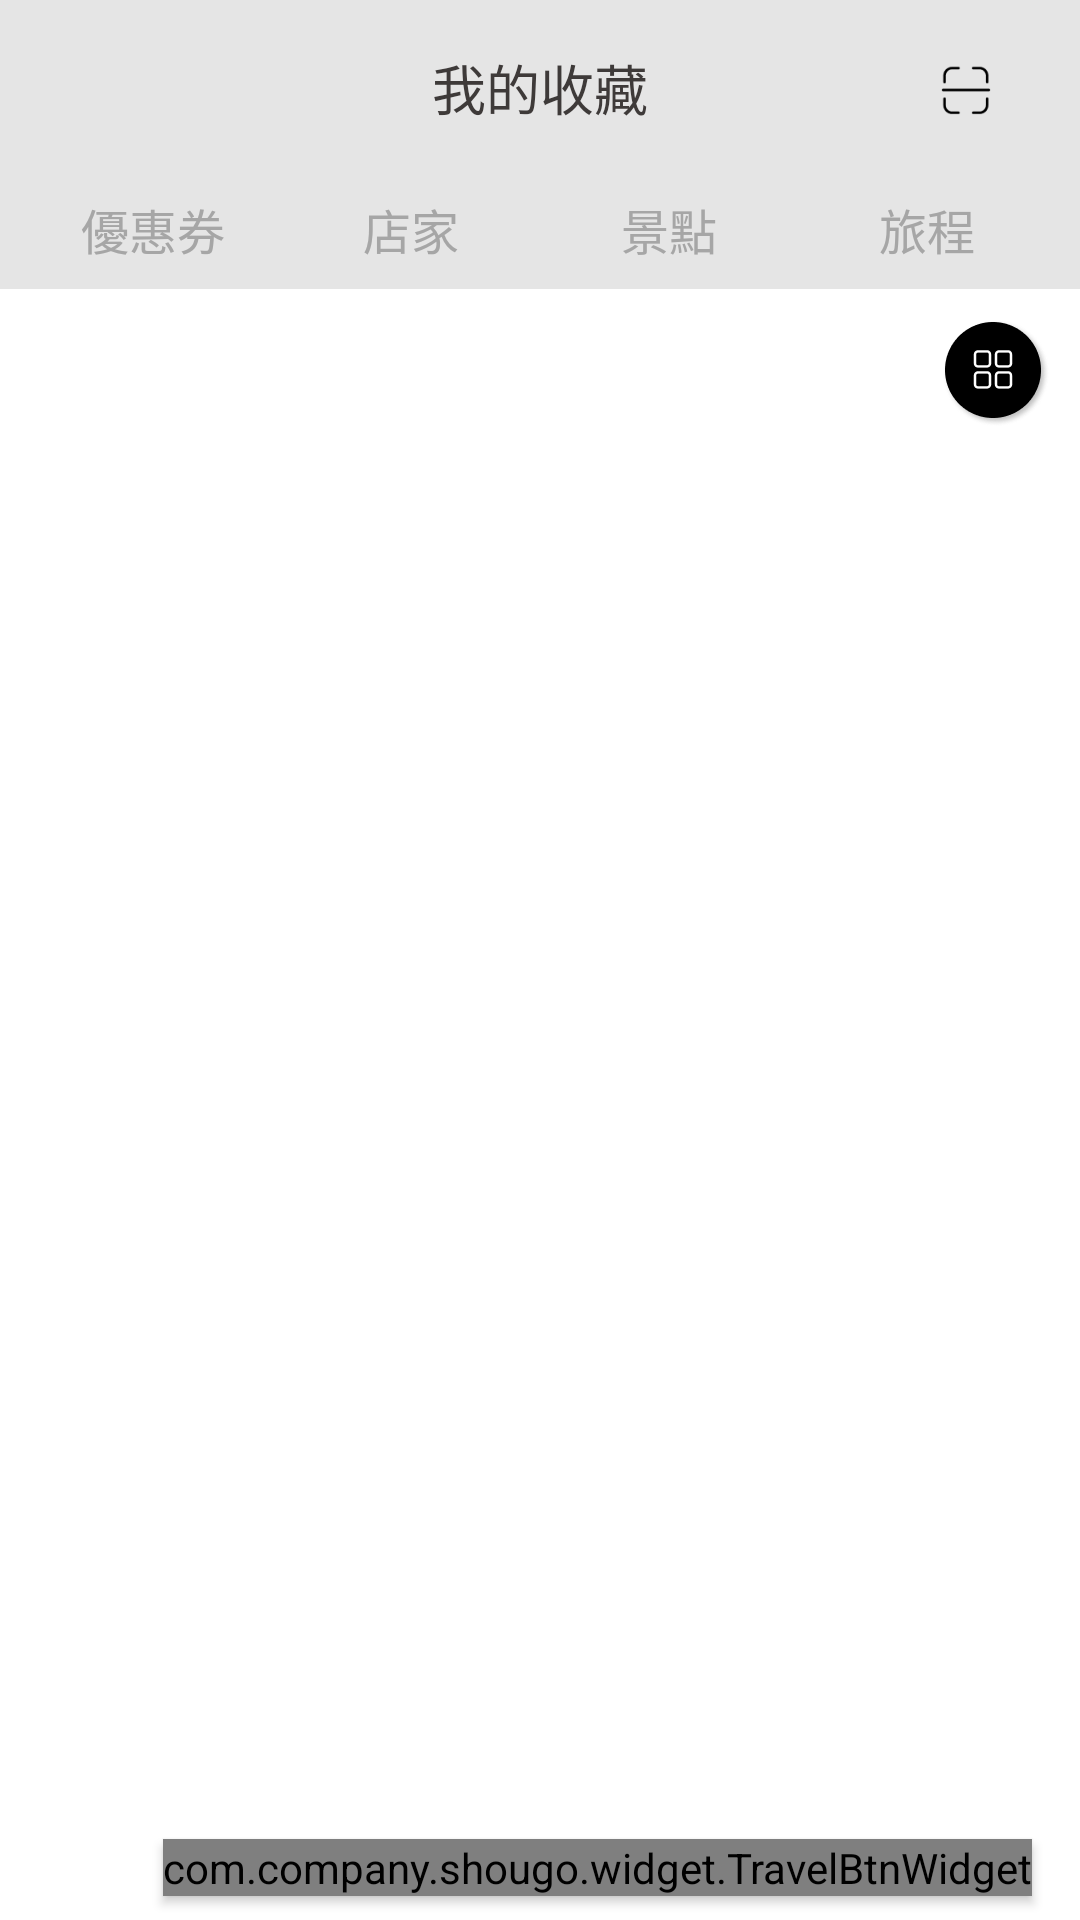

Point at icon controls on the screen. Image size 1080 × 1920, points as (x=x, y=y).
home other: (x=995, y=372)
home scan: (x=966, y=90)
